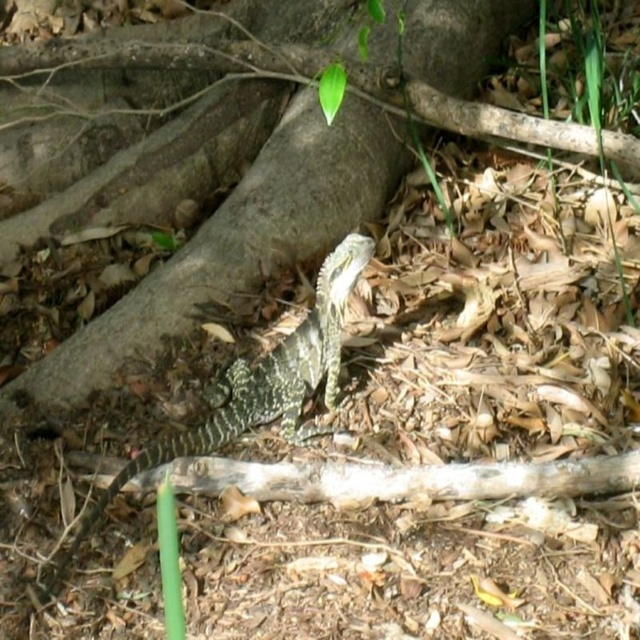Lizard: (82, 255, 400, 534)
